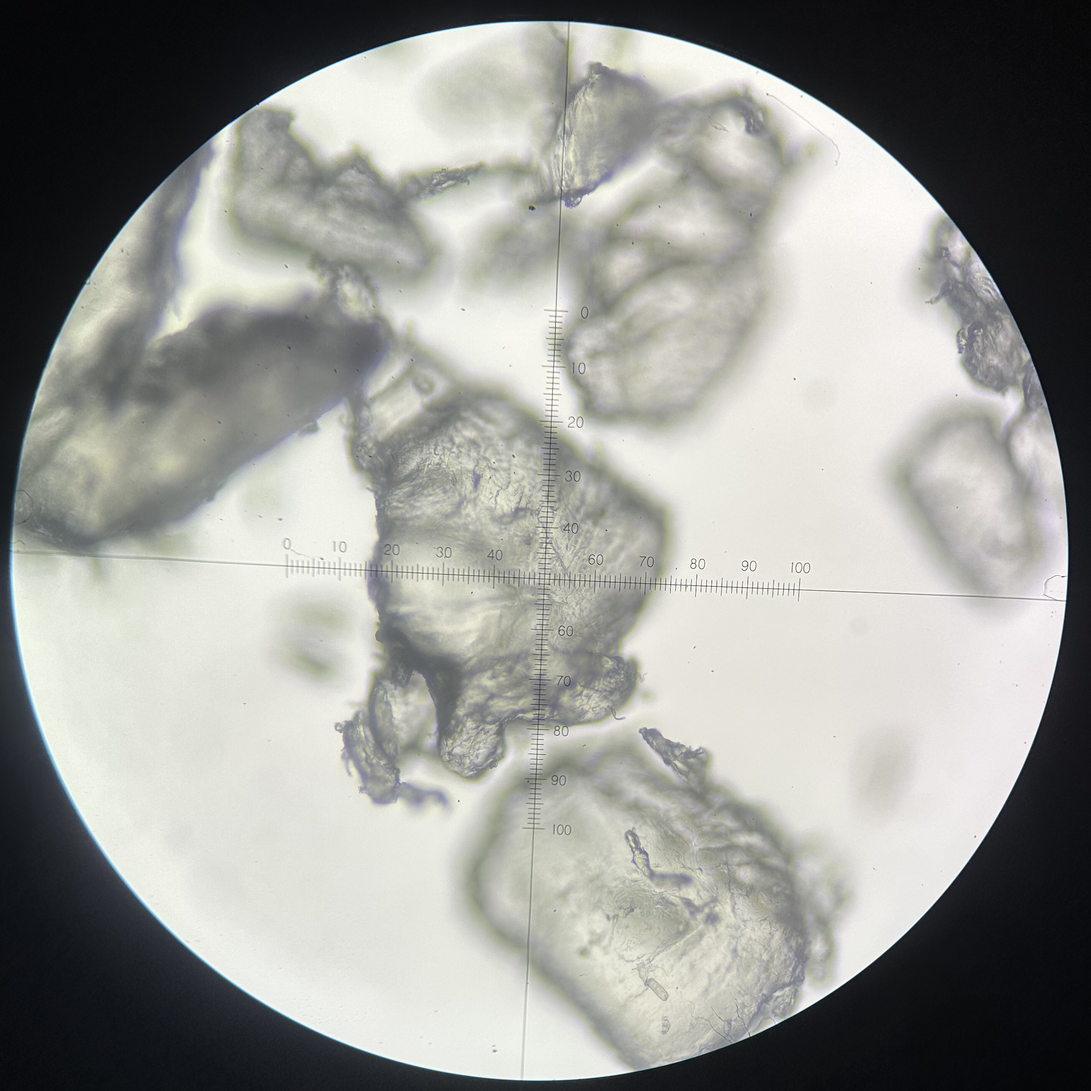microplastic: (306, 252, 673, 786), (5, 136, 391, 558), (466, 723, 854, 1078), (549, 87, 793, 434), (225, 102, 439, 288), (897, 410, 1044, 602), (920, 210, 1044, 400), (530, 61, 666, 207), (333, 709, 457, 814), (1004, 358, 1069, 531), (405, 158, 489, 211)
